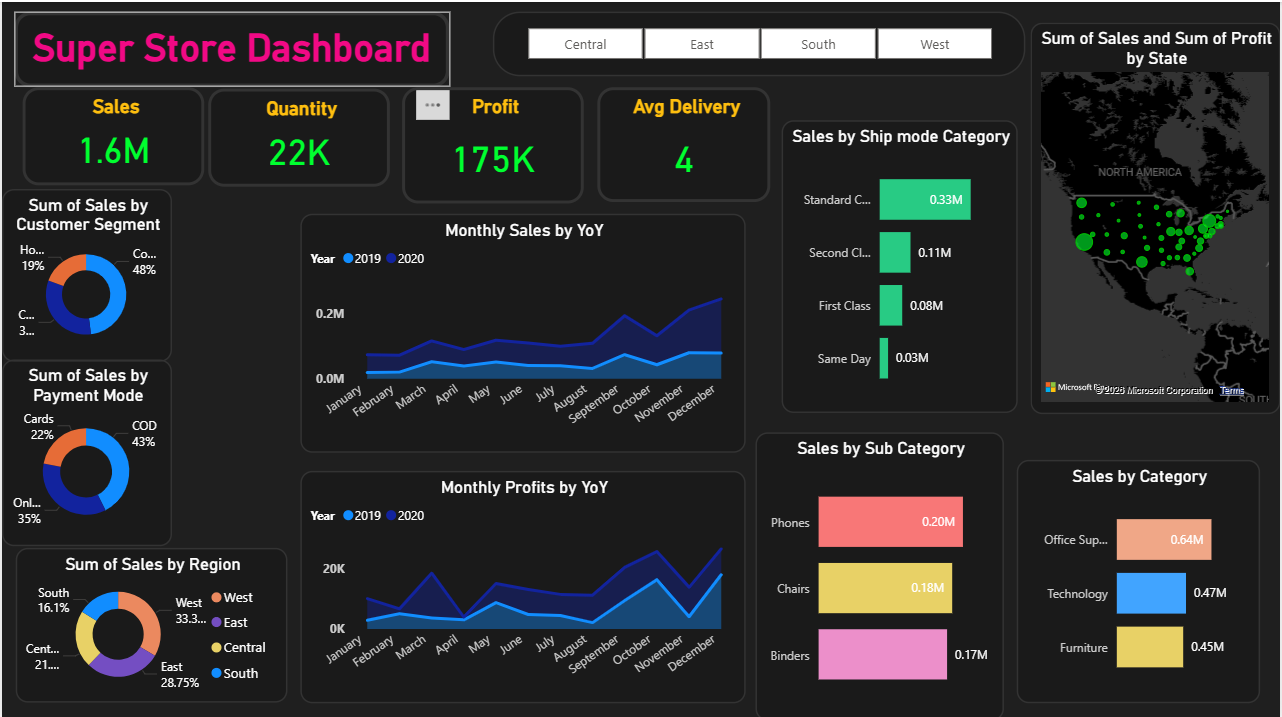

Layout of this report page (visuals, bound fields, positions):
{"tool":"powerbi","page":{"name":"Page 1","canvas":[1280,720],"ordinal":0},"visuals":[{"type":"clusteredBarChart","title":"Sales by Category","fields":{"Category":["SuperStore_Sales_Dataset.Category"],"Y":["Sum(SuperStore_Sales_Dataset.Sales)"]},"box":[1016.7,458.3,243.3,243.3],"z":0},{"type":"clusteredBarChart","title":"Sales by Sub Category","fields":{"Category":["SuperStore_Sales_Dataset.Sub-Category"],"Y":["Sum(SuperStore_Sales_Dataset.Sales)"]},"box":[754.3,431.4,248.6,288.6],"z":1000},{"type":"clusteredBarChart","title":"Sales by Ship mode Category","fields":{"Category":["SuperStore_Sales_Dataset.Ship Mode"],"Y":["Sum(SuperStore_Sales_Dataset.Sales)"]},"box":[780,118.3,236.7,293.3],"z":2000},{"type":"stackedAreaChart","title":"Monthly Sales by YoY","fields":{"Y":["Sum(SuperStore_Sales_Dataset.Sales)"],"Category":["SuperStore_Sales_Dataset.Order Date.Variation.Date Hierarchy.Month","SuperStore_Sales_Dataset.Order Date.Variation.Date Hierarchy.Day"],"Series":["SuperStore_Sales_Dataset.Order Date.Variation.Date Hierarchy.Year"]},"box":[298.3,211.7,475,240],"z":3000},{"type":"stackedAreaChart","title":"Monthly Profits by YoY","fields":{"Category":["SuperStore_Sales_Dataset.Order Date.Variation.Date Hierarchy.Month","SuperStore_Sales_Dataset.Order Date.Variation.Date Hierarchy.Day"],"Series":["SuperStore_Sales_Dataset.Order Date.Variation.Date Hierarchy.Year"],"Y":["Sum(SuperStore_Sales_Dataset.Profit)"]},"box":[298.3,458.3,446.7,233.3],"z":4000},{"type":"map","title":"Sum of Sales and Sum of Profit by State","fields":{"Category":["SuperStore_Sales_Dataset.State"],"Size":["Sum(SuperStore_Sales_Dataset.Sales)"]},"box":[1030,20,250,391.7],"z":5000},{"type":"donutChart","title":"Sum of Sales by Customer Segment","fields":{"Category":["SuperStore_Sales_Dataset.Segment"],"Y":["Sum(SuperStore_Sales_Dataset.Sales)"]},"box":[0,186.7,170,173.3],"z":6000},{"type":"donutChart","title":"Sum of Sales by Payment Mode","fields":{"Category":["SuperStore_Sales_Dataset.Payment Mode"],"Y":["Sum(SuperStore_Sales_Dataset.Sales)"]},"box":[0,358.3,170,186.7],"z":7000},{"type":"slicer","fields":{"Values":["SuperStore_Sales_Dataset.Region"]},"box":[491.7,10,533.3,65],"z":8000},{"type":"textbox","box":[12.9,10,435.7,75.7],"z":9000},{"type":"card","title":"Sales","fields":{"Values":["Sum(SuperStore_Sales_Dataset.Sales)"]},"box":[20,85,181.7,98.3],"z":10000},{"type":"card","title":"Quantity","fields":{"Values":["Sum(SuperStore_Sales_Dataset.Quantity)"]},"box":[206.7,86.7,181.7,98.3],"z":11000},{"type":"card","title":"Profit","fields":{"Values":["Sum(SuperStore_Sales_Dataset.Profit)"]},"box":[400,85,181.7,116.7],"z":12000},{"type":"card","title":"Avg Delivery","fields":{"Values":["Avg(SuperStore_Sales_Dataset.AverageDelivery)"]},"box":[596.7,85,173.3,115],"z":13000},{"type":"donutChart","fields":{"Category":["SuperStore_Sales_Dataset.Region"],"Y":["Sum(SuperStore_Sales_Dataset.Sales)"]},"box":[13.3,546.7,271.7,155],"z":14000}]}

Visuals, with their boxes in screenshot pixels (x1, y1, x2, y2), scaled from the page's 1280x720 canvas onto the 1282x717 screenshot:
"Sales by Category" clusteredBarChart: (1018,456,1262,699)
"Sales by Sub Category" clusteredBarChart: (755,430,1004,716)
"Sales by Ship mode Category" clusteredBarChart: (781,118,1018,410)
"Monthly Sales by YoY" stackedAreaChart: (299,211,775,450)
"Monthly Profits by YoY" stackedAreaChart: (299,456,746,689)
"Sum of Sales and Sum of Profit by State" map: (1032,20,1281,410)
"Sum of Sales by Customer Segment" donutChart: (0,186,170,358)
"Sum of Sales by Payment Mode" donutChart: (0,357,170,543)
slicer - SuperStore_Sales_Dataset.Region: (492,10,1027,75)
textbox: (13,10,449,85)
"Sales" card: (20,85,202,183)
"Quantity" card: (207,86,389,184)
"Profit" card: (401,85,583,201)
"Avg Delivery" card: (598,85,771,199)
donutChart - SuperStore_Sales_Dataset.Region x Sum(SuperStore_Sales_Dataset.Sales): (13,544,285,699)
